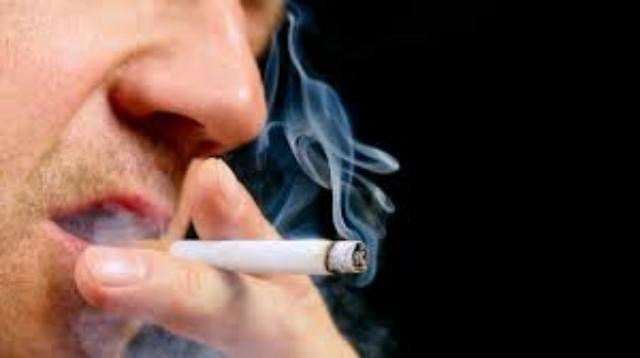Cigarette: (89, 239, 369, 275)
